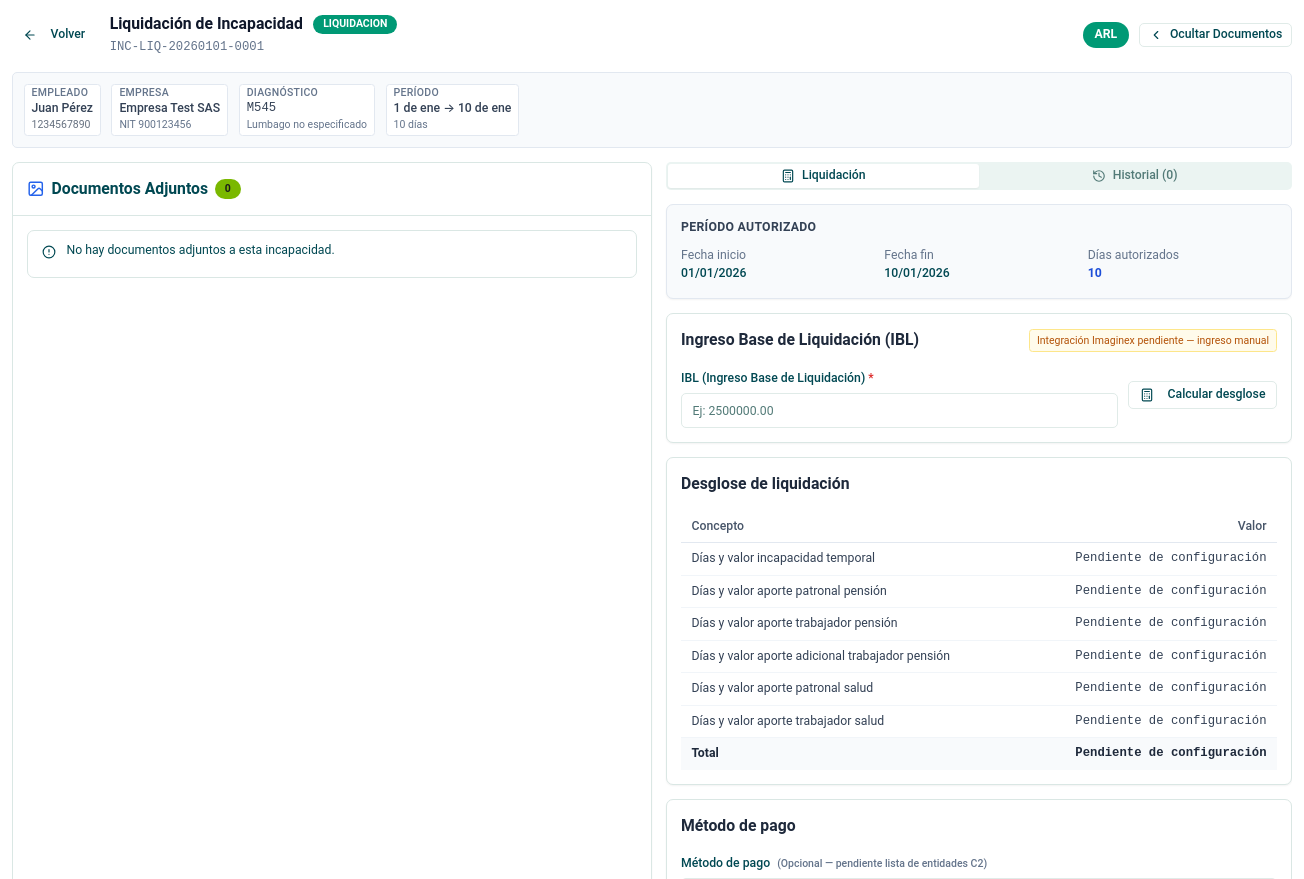
Test case: LiquidacionPage › shows recalculated breakdown (from "Calcular desglose") over saved values
Type "2500000" into the field with test id "ibl-input" at {"x": 899, "y": 411}, box [681,393,1118,428]
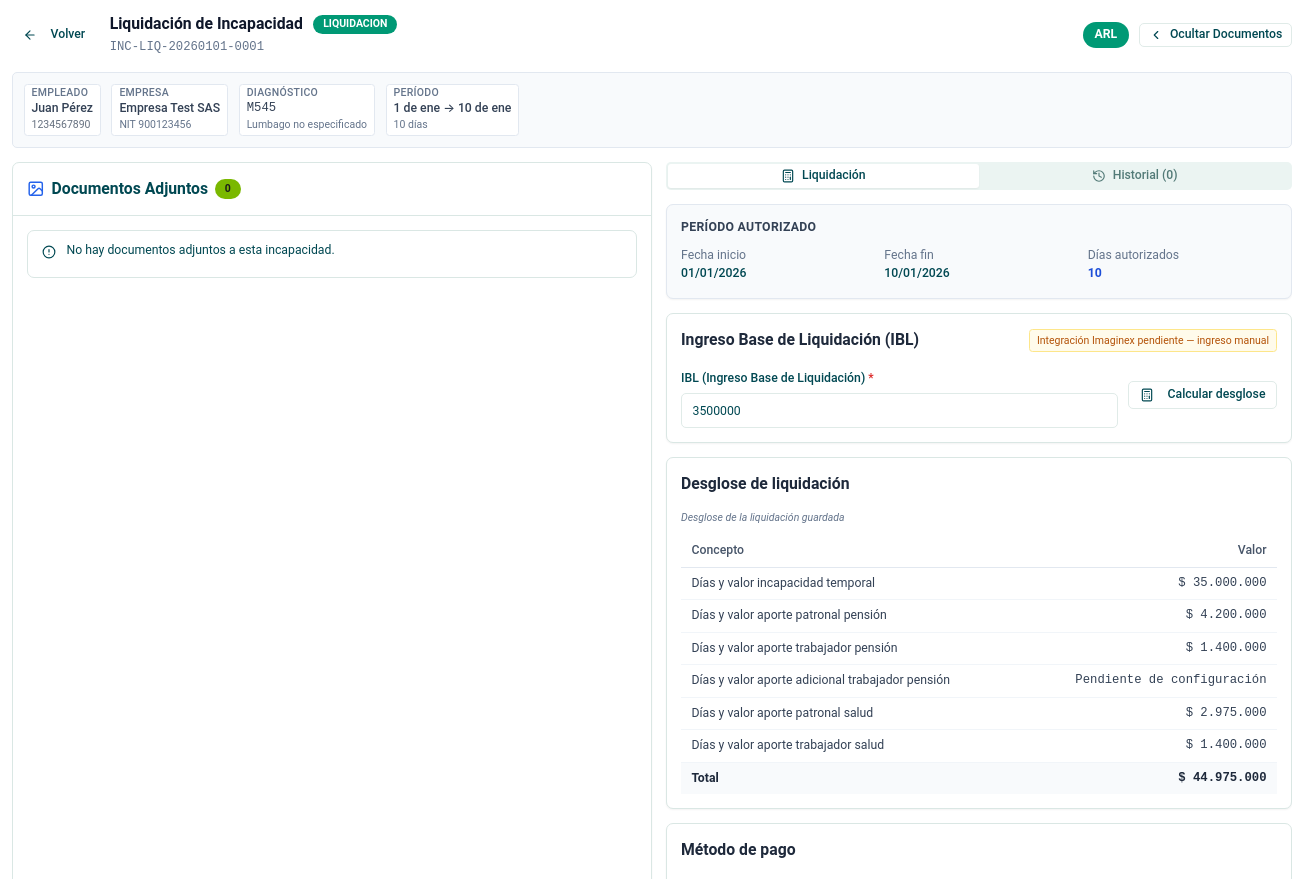
Click the button with test id "calcular-breakdown-btn" at {"x": 1203, "y": 395}, box [1128,381,1277,409]
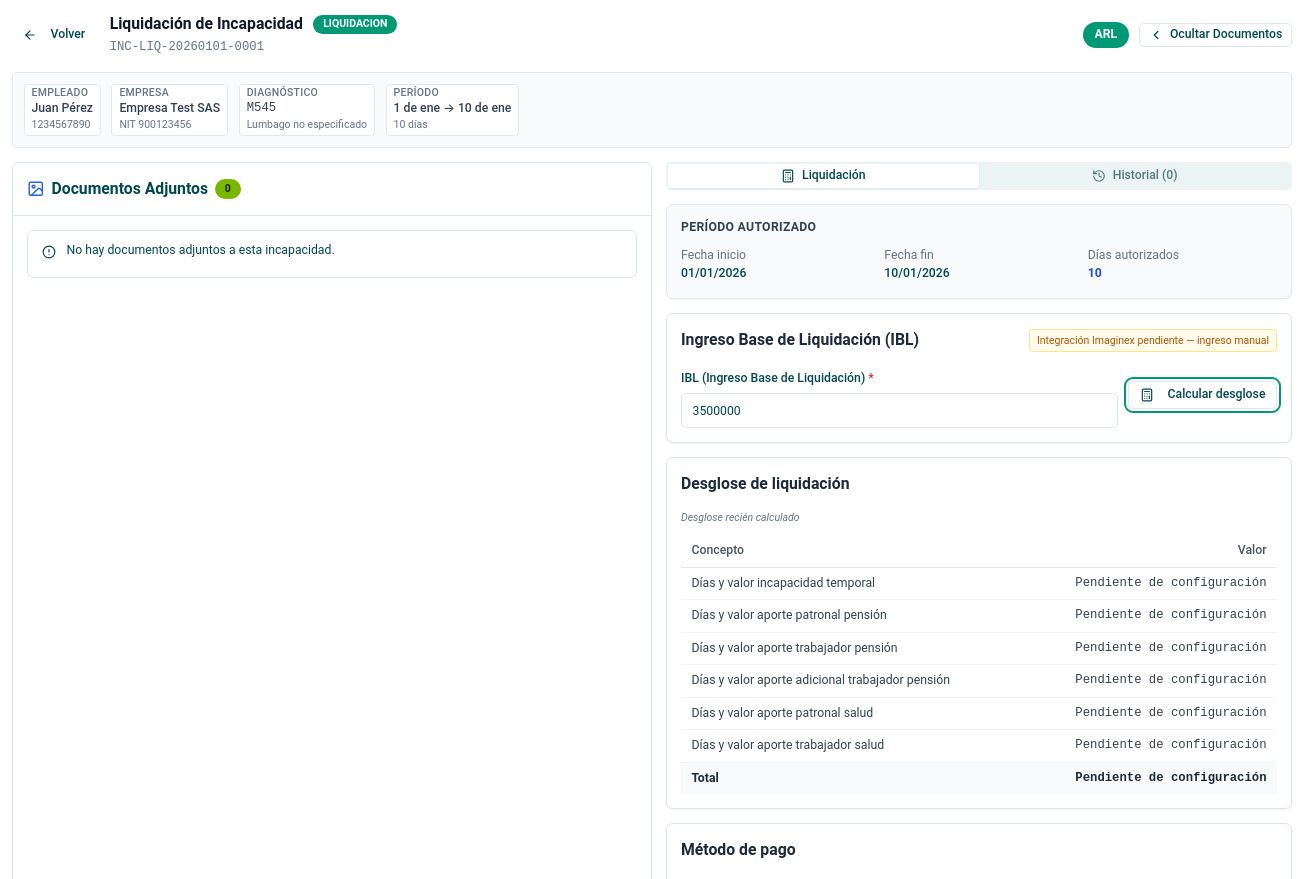
Check: the text "Desglose recién calculado" is shown, box [681,511,800,524]
Check: the text "Desglose de la liquidación guardada" is gone
